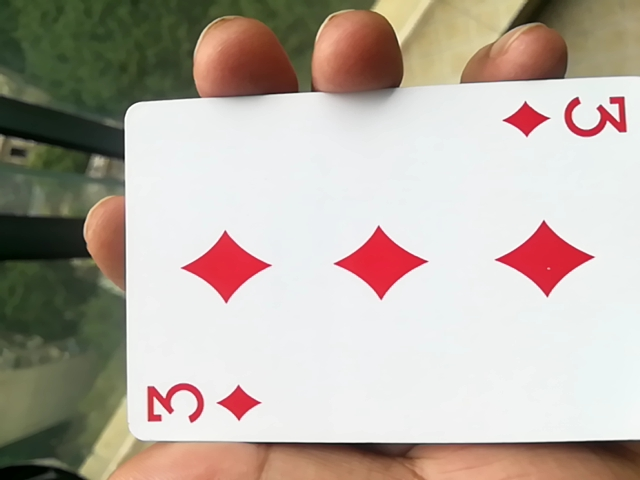fk 3: (100, 102, 637, 466)
